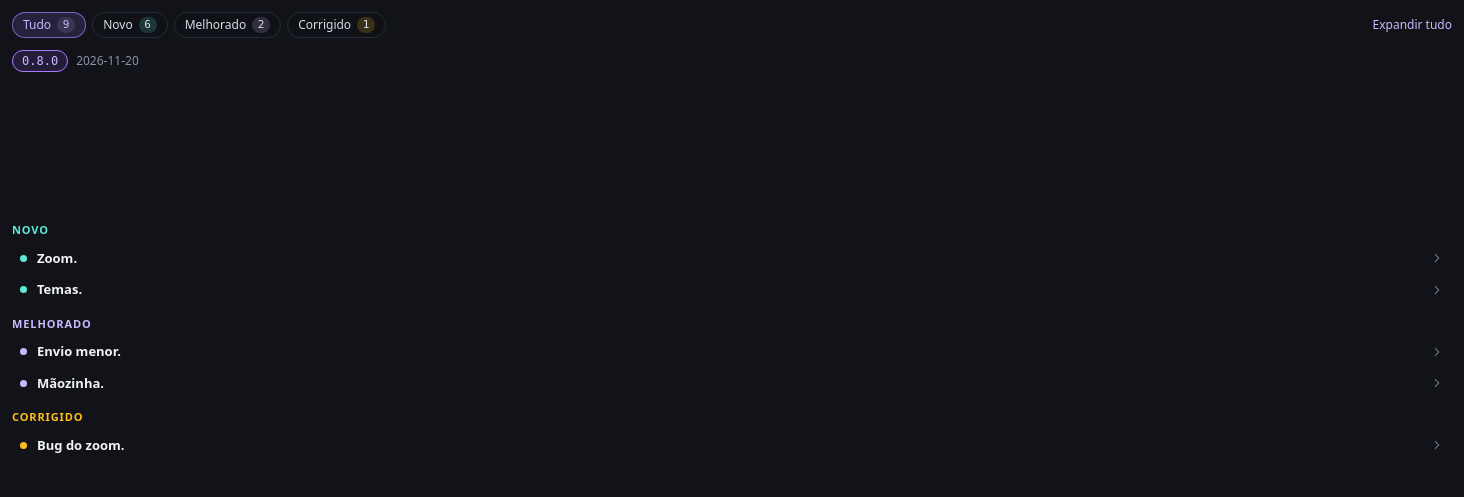
Test: notas de versão › destaques no topo, o resto recolhido com só o título
Expected: the text "Zoom." is shown, [37,248,77,266]
Expected: the text "Descrição de Zoom." is not shown
Click the button "Zoom." at (57, 258), box [12,242,1452,274]
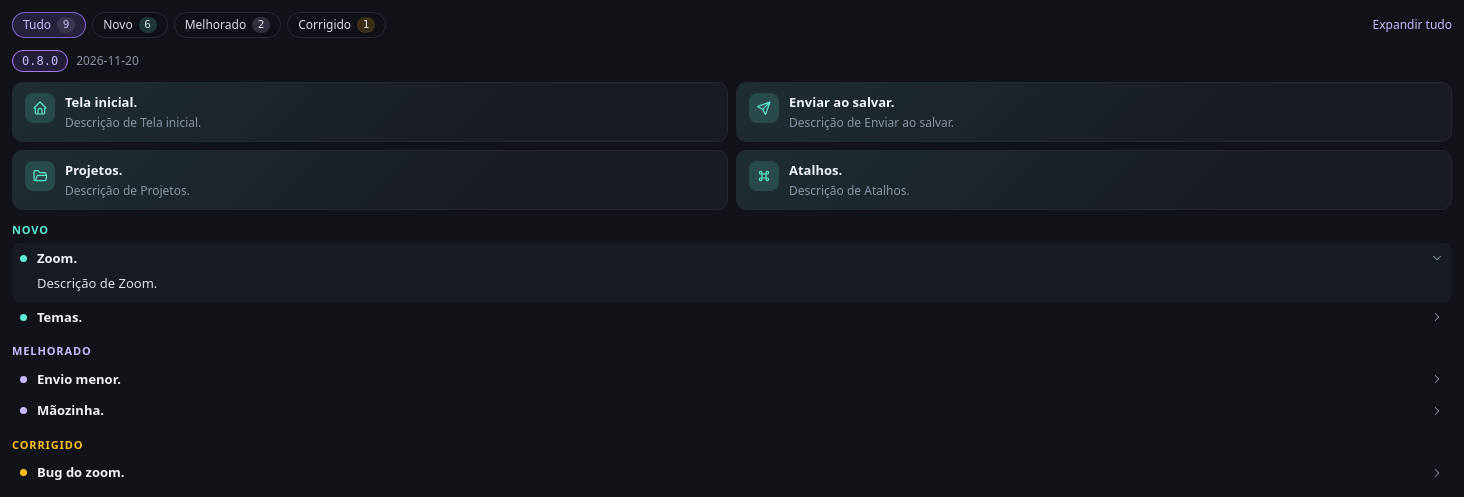
Now the text "Descrição de Zoom." is shown, box [37,274,157,292]
